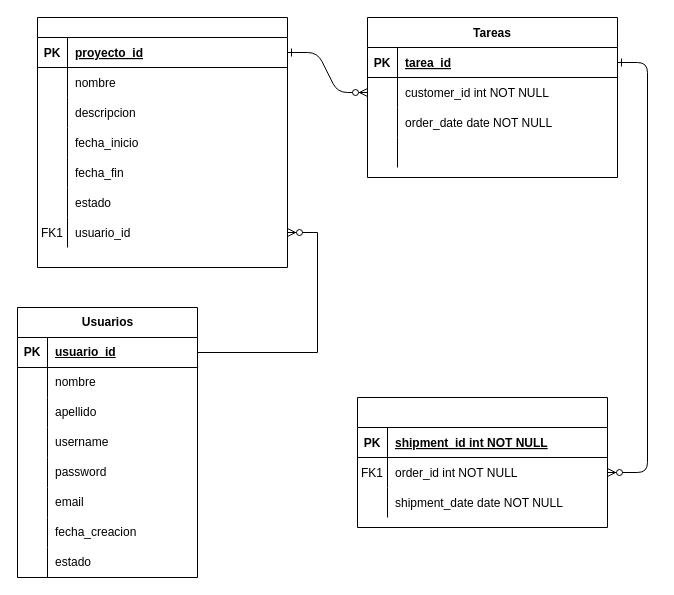
Image size: 674x595. Some labels were removed from this diagram. Here are the shapes that lost their labels. From the top down, the box of each, then its label:
(36, 16, 288, 268): Proyectos
(356, 396, 608, 528): Shipments
